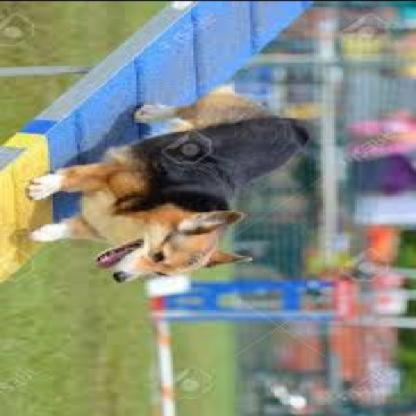dog: (25, 88, 310, 283)
